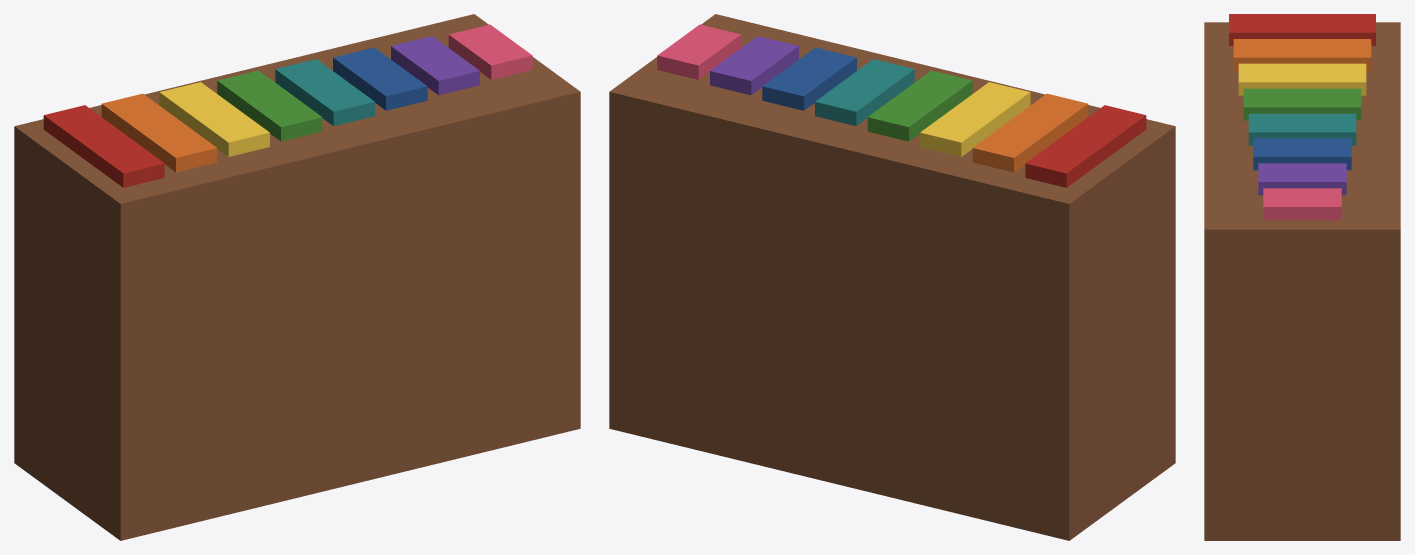
File: elem_xylophone.glb
3 views of the same model, side by side, from view 1: azimuth 30°, elevation 25°; view 2: azimuth 150°, elevation 25°; view 3: azimuth 270°, elevation 25° (orthographic). The views are drawn at different scales.
Parts seen in each view (by area): view 1: Box1, Box2, Box3, Box4, Box5, Box6, Box7, Box8, Box9; view 2: Box1, Box2, Box3, Box4, Box5, Box6, Box7, Box8, Box9; view 3: Box1, Box2, Box3, Box4, Box5, Box6, Box7, Box9, Box8.
Part boxes in pixels (left/top/right/bottom): Box1: left=14, top=14, right=580, bottom=540; Box2: left=43, top=105, right=164, bottom=187; Box3: left=101, top=93, right=217, bottom=172; Box4: left=159, top=82, right=269, bottom=156; Box5: left=217, top=70, right=322, bottom=141; Box6: left=275, top=59, right=374, bottom=126; Box7: left=333, top=47, right=427, bottom=110; Box8: left=391, top=36, right=479, bottom=95; Box9: left=448, top=24, right=532, bottom=79; Box1: left=609, top=14, right=1175, bottom=540; Box2: left=1025, top=105, right=1146, bottom=187; Box3: left=972, top=93, right=1088, bottom=172; Box4: left=920, top=82, right=1030, bottom=156; Box5: left=867, top=70, right=972, bottom=141; Box6: left=815, top=59, right=914, bottom=126; Box7: left=762, top=47, right=856, bottom=110; Box8: left=710, top=36, right=798, bottom=95; Box9: left=657, top=24, right=741, bottom=79; Box1: left=1204, top=22, right=1400, bottom=540; Box2: left=1229, top=14, right=1375, bottom=45; Box3: left=1233, top=39, right=1371, bottom=70; Box4: left=1238, top=63, right=1366, bottom=95; Box5: left=1243, top=88, right=1361, bottom=120; Box6: left=1248, top=113, right=1356, bottom=145; Box7: left=1253, top=138, right=1351, bottom=170; Box9: left=1263, top=188, right=1341, bottom=220; Box8: left=1258, top=163, right=1346, bottom=195.
Size of the model in its own units: 1 by 0.735 by 0.4.
